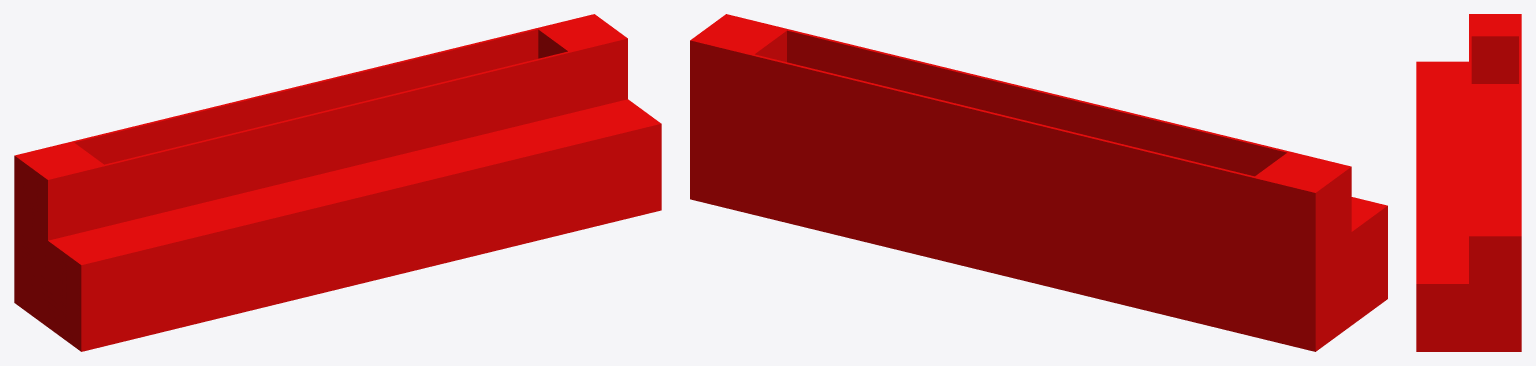
3 views of the same model, side by side, from view 1: azimuth 30°, elevation 25°; view 2: azimuth 150°, elevation 25°; view 3: azimuth 270°, elevation 25° (orthographic). The views are drawn at different scales.
Parts seen in each view (by area): view 1: tmp_export_Cube.003; view 2: tmp_export_Cube.003; view 3: tmp_export_Cube.003.
Boxes of the visible parts, box(x1,y1,x2,y2) form: tmp_export_Cube.003: box(14, 14, 661, 351); tmp_export_Cube.003: box(690, 14, 1387, 351); tmp_export_Cube.003: box(1416, 14, 1521, 351).
Size of the model in its own units: 20 by 4 by 4.86.
